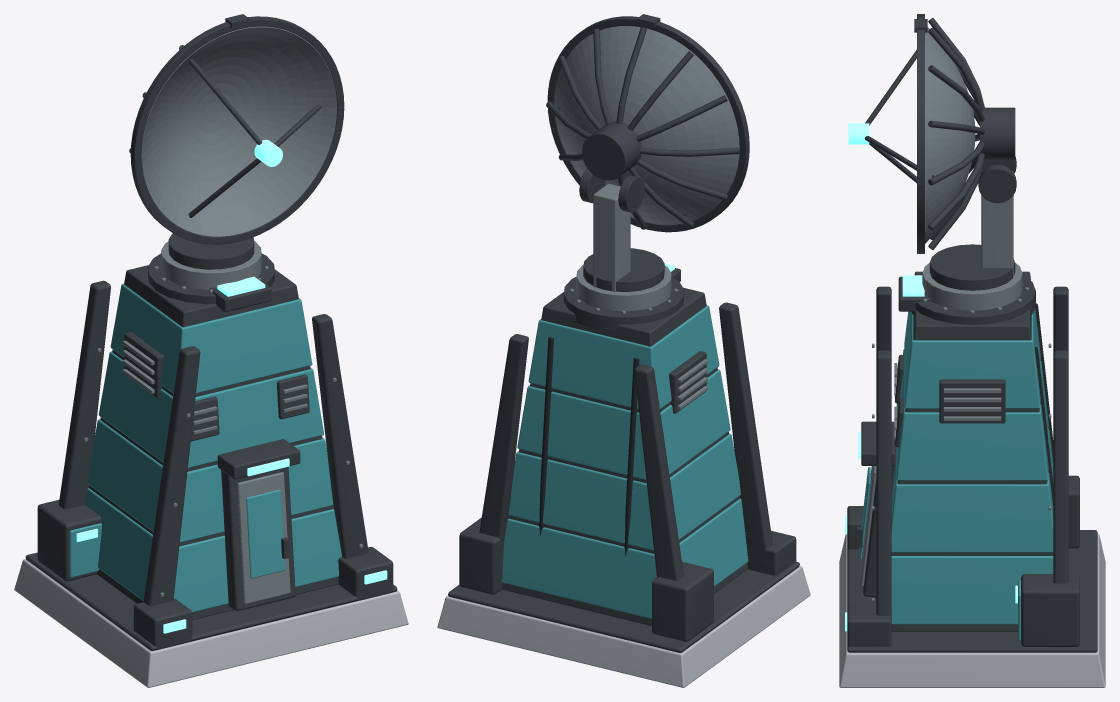
Rendered from outpost-a.glb.
The picture shows the model from 3 angles, left to right: view 1: azimuth 30°, elevation 25°; view 2: azimuth 150°, elevation 25°; view 3: azimuth 270°, elevation 25°; orthographic projection. The views are drawn at different scales.
Visible parts, largest first — view 1: modelRoot-structure, modelRoot-team-primary, antennaYaw-neutral-metal, modelRoot-foundation-concrete, antennaYaw-structure, modelRoot-neutral-metal, modelRoot-team-emissive; view 2: modelRoot-team-primary, modelRoot-structure, antennaYaw-neutral-metal, antennaYaw-structure, modelRoot-foundation-concrete, modelRoot-neutral-metal, modelRoot-rubber; view 3: modelRoot-team-primary, modelRoot-structure, modelRoot-foundation-concrete, antennaYaw-structure, antennaYaw-neutral-metal, modelRoot-neutral-metal, modelRoot-rubber, modelRoot-team-emissive, antennaYaw-team-emissive.
Part boxes in pixels (box(x1,y1,x2,y2)): modelRoot-structure: box(25, 233, 397, 650); modelRoot-team-primary: box(69, 283, 341, 612); antennaYaw-neutral-metal: box(141, 26, 337, 236); modelRoot-foundation-concrete: box(14, 559, 408, 687); antennaYaw-structure: box(129, 14, 344, 244); modelRoot-neutral-metal: box(84, 241, 363, 604); modelRoot-team-emissive: box(76, 276, 387, 633); modelRoot-team-primary: box(502, 305, 748, 618); modelRoot-structure: box(448, 248, 799, 652); antennaYaw-neutral-metal: box(554, 26, 739, 291); antennaYaw-structure: box(546, 14, 749, 232); modelRoot-foundation-concrete: box(437, 566, 810, 687); modelRoot-neutral-metal: box(569, 265, 707, 409); modelRoot-rubber: box(539, 337, 639, 556); modelRoot-team-primary: box(859, 308, 1053, 640); modelRoot-structure: box(847, 244, 1097, 652); modelRoot-foundation-concrete: box(839, 534, 1105, 687); antennaYaw-structure: box(865, 14, 1016, 253); antennaYaw-neutral-metal: box(925, 27, 1013, 278); modelRoot-neutral-metal: box(860, 263, 1051, 601); modelRoot-rubber: box(1035, 303, 1053, 504); modelRoot-team-emissive: box(845, 275, 1017, 631); antennaYaw-team-emissive: box(848, 123, 869, 144).
Size of the model in its own units: 2.03 by 4.51 by 1.81.
